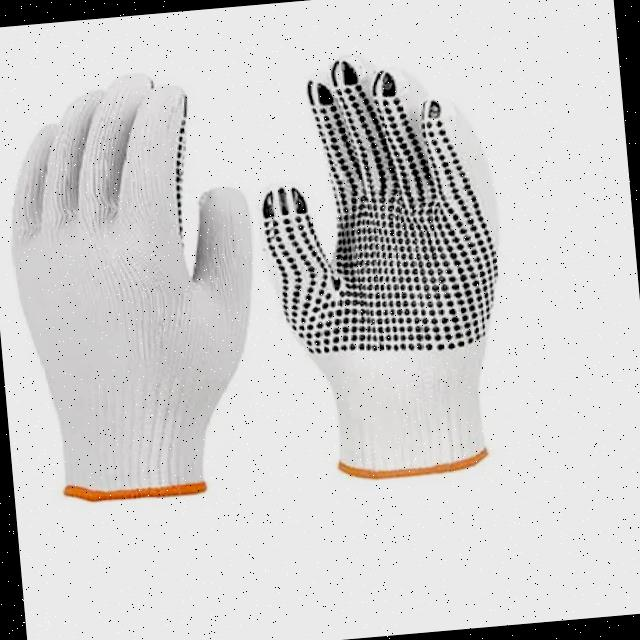LUVA: (8, 69, 252, 508), (256, 46, 504, 477)
